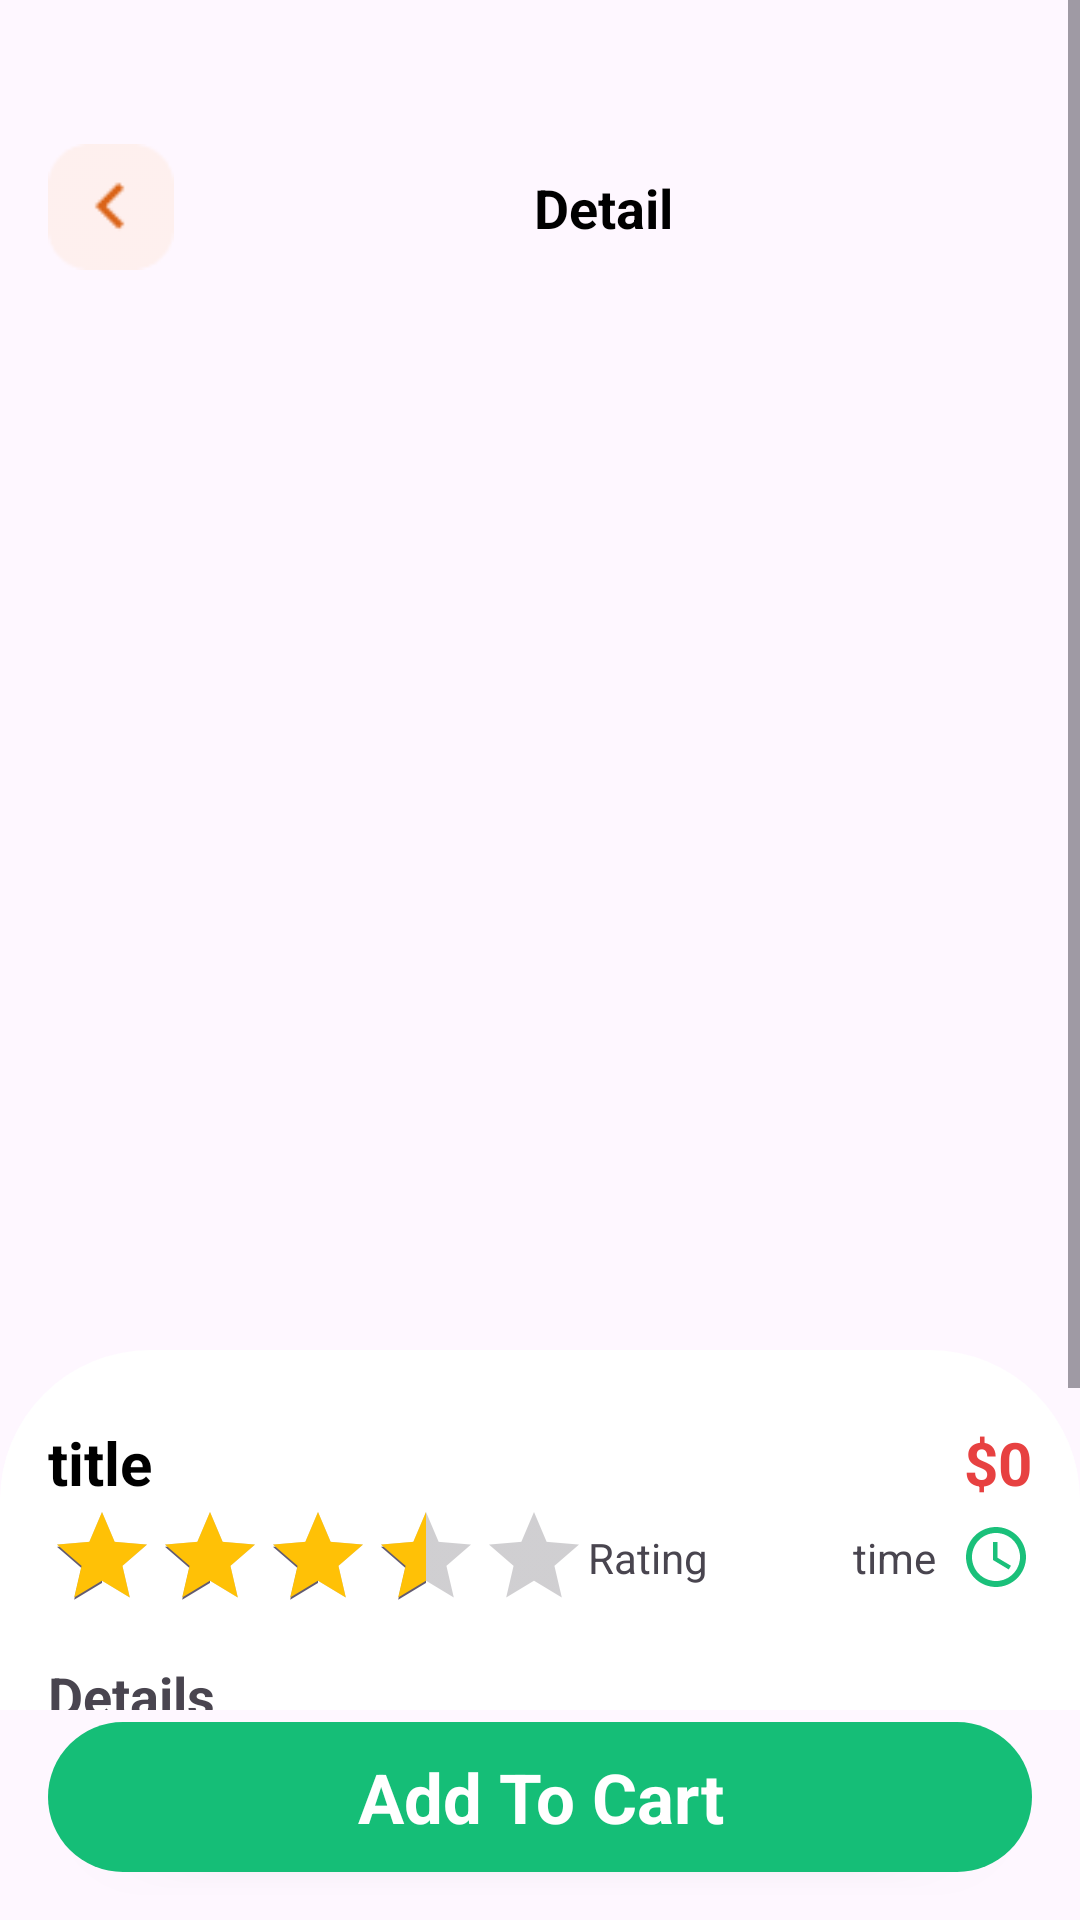

Icon click points for this 1080px×1920px phone screenshot, format (x,y):
back: (111,207)
